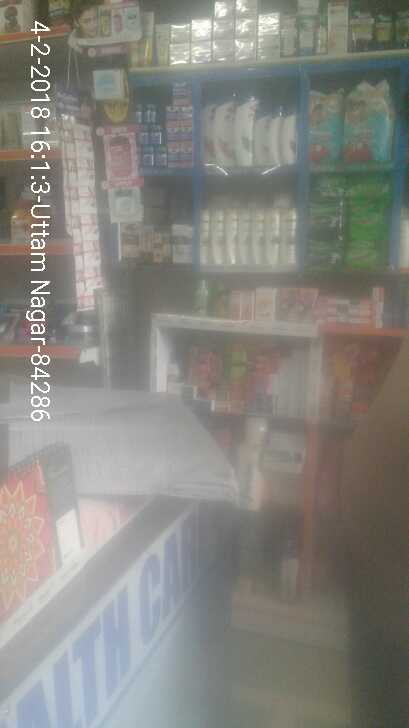beauty: (188, 89, 216, 170), (257, 108, 293, 164), (267, 202, 298, 265), (212, 93, 238, 164), (204, 195, 226, 273), (243, 212, 268, 274), (234, 79, 252, 163), (192, 209, 212, 271), (231, 203, 247, 280), (217, 208, 235, 270)
pharmacy: (333, 78, 390, 174), (336, 180, 387, 272), (301, 173, 343, 267), (124, 97, 164, 172), (304, 85, 335, 167)
